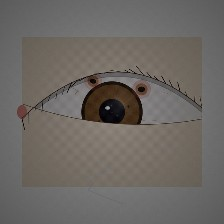foreign_body_visible: (123, 75, 160, 104)
